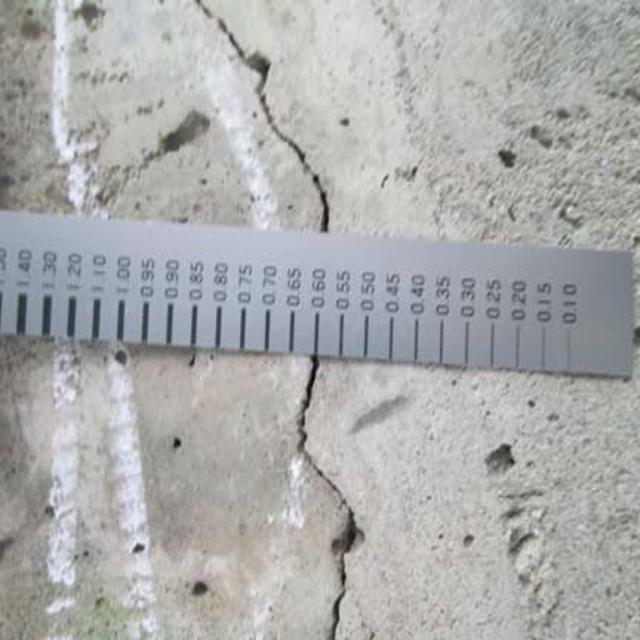crack: (192, 12, 357, 242), (277, 370, 384, 640)
